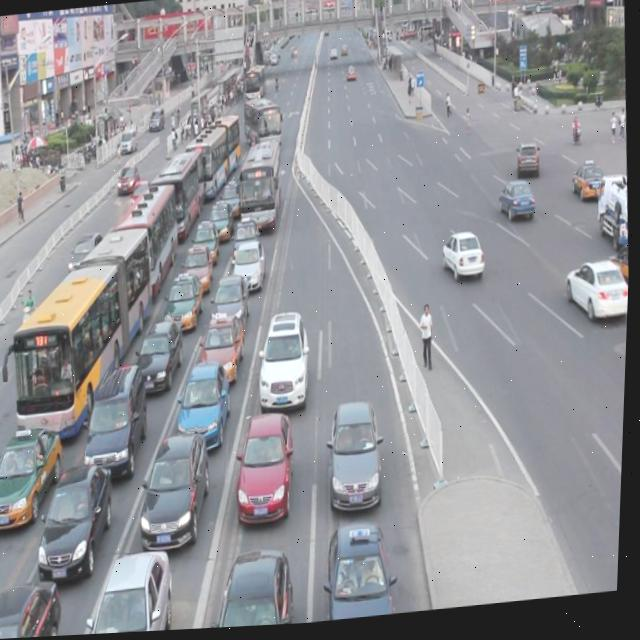bus: (596, 177, 632, 256)
car: (37, 461, 121, 575), (141, 428, 217, 547), (87, 546, 180, 636), (84, 360, 155, 474), (325, 522, 403, 625), (213, 548, 299, 631), (0, 422, 68, 525), (328, 400, 391, 510), (237, 413, 302, 518), (258, 310, 316, 409), (179, 358, 235, 446), (564, 261, 632, 331), (0, 574, 68, 639), (137, 314, 188, 390), (200, 311, 249, 382), (212, 274, 255, 334), (441, 233, 487, 288), (166, 272, 208, 329), (236, 238, 269, 290), (183, 241, 217, 291), (497, 184, 537, 226), (607, 241, 632, 307), (571, 164, 607, 208), (68, 232, 106, 272), (193, 219, 223, 263), (234, 214, 262, 261), (219, 177, 247, 216), (209, 197, 235, 238), (515, 144, 541, 183), (118, 164, 141, 195), (131, 180, 151, 207)
van: (0, 226, 163, 440), (109, 179, 185, 299), (186, 108, 244, 195), (237, 141, 286, 236), (155, 147, 205, 238), (242, 98, 286, 154)
